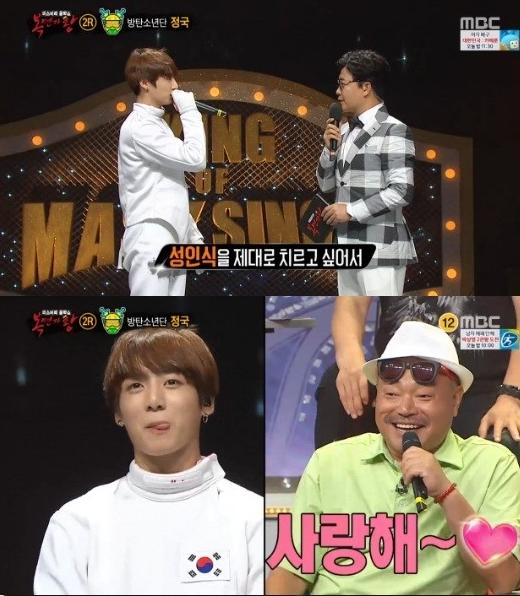face: (118, 347, 198, 454), (375, 358, 448, 452), (335, 66, 361, 113), (149, 67, 176, 105)
